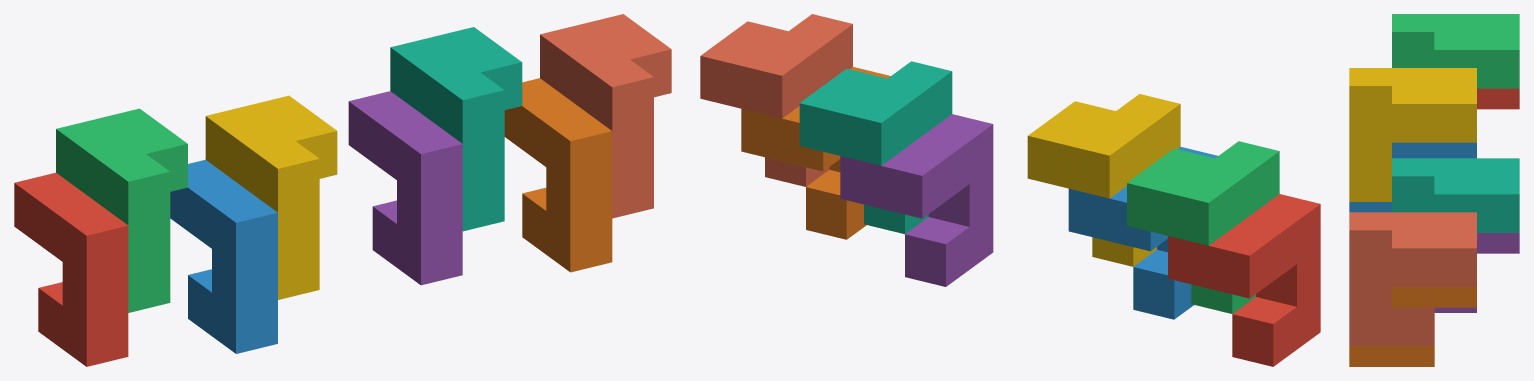
Rendered from tiling.obj.
3 renders of one model, left to right at view 1: azimuth 30°, elevation 25°; view 2: azimuth 150°, elevation 25°; view 3: azimuth 270°, elevation 25°, orthographic. The views are drawn at different scales.
Visible parts, largest first — view 1: copy_1_domain_1, copy_1_domain_5, copy_1_domain_7, copy_1_domain_3, copy_1_domain_4, copy_1_domain_8, copy_1_domain_6, copy_1_domain_2; view 2: copy_1_domain_5, copy_1_domain_1, copy_1_domain_7, copy_1_domain_3, copy_1_domain_4, copy_1_domain_8, copy_1_domain_2, copy_1_domain_6; view 3: copy_1_domain_8, copy_1_domain_4, copy_1_domain_7, copy_1_domain_3, copy_1_domain_6, copy_1_domain_2, copy_1_domain_5, copy_1_domain_1.
Part boxes in pixels (x1,y1,x2,y2): copy_1_domain_1: [14, 172, 128, 366]; copy_1_domain_5: [348, 91, 462, 285]; copy_1_domain_7: [390, 27, 522, 231]; copy_1_domain_3: [56, 108, 187, 312]; copy_1_domain_4: [205, 95, 337, 299]; copy_1_domain_8: [540, 14, 671, 218]; copy_1_domain_6: [504, 78, 612, 272]; copy_1_domain_2: [170, 159, 277, 353]; copy_1_domain_5: [840, 114, 993, 286]; copy_1_domain_1: [1168, 194, 1320, 366]; copy_1_domain_7: [799, 61, 952, 234]; copy_1_domain_3: [1127, 141, 1279, 313]; copy_1_domain_4: [1027, 94, 1180, 266]; copy_1_domain_8: [700, 14, 852, 186]; copy_1_domain_2: [1068, 146, 1217, 319]; copy_1_domain_6: [741, 67, 890, 239]; copy_1_domain_8: [1349, 212, 1476, 346]; copy_1_domain_4: [1349, 68, 1476, 201]; copy_1_domain_7: [1392, 158, 1519, 232]; copy_1_domain_3: [1392, 14, 1519, 88]; copy_1_domain_6: [1349, 287, 1476, 366]; copy_1_domain_2: [1349, 142, 1476, 212]; copy_1_domain_5: [1434, 233, 1519, 312]; copy_1_domain_1: [1477, 88, 1519, 109].
Bounding box in the file's own units: 14 × 4 × 4.
